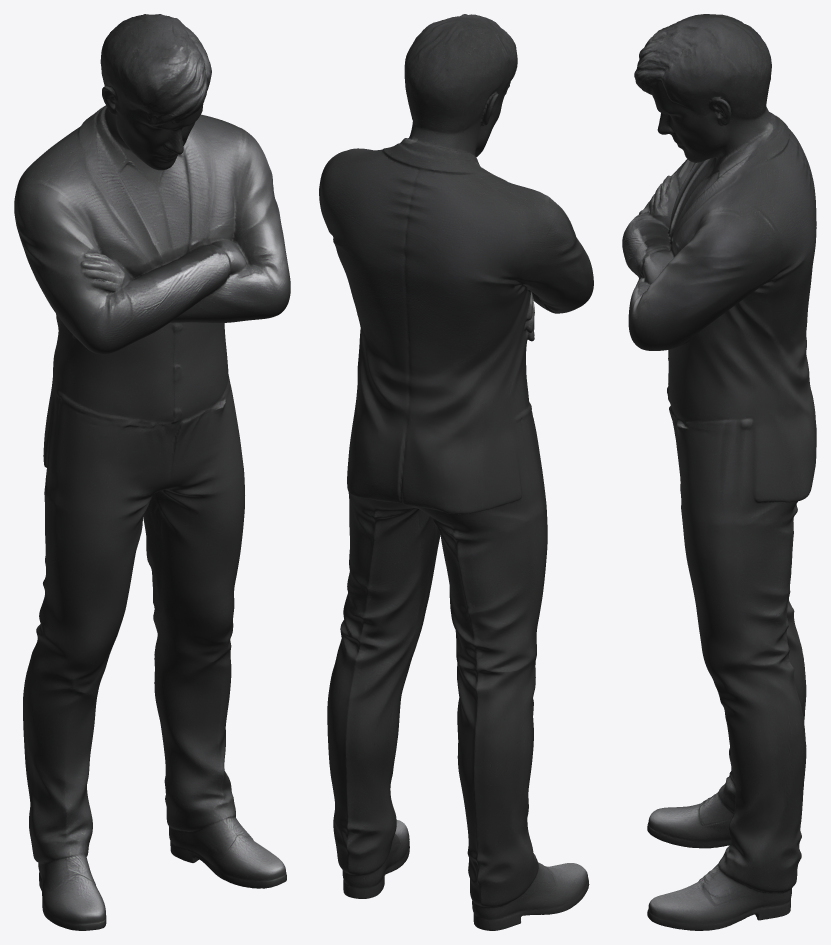
The model's file is Male.glb.
3 renders of one model, left to right at view 1: azimuth 30°, elevation 25°; view 2: azimuth 150°, elevation 25°; view 3: azimuth 270°, elevation 25°, orthographic.
Bounding box in the file's own units: 0.5538 × 1.9 × 0.3894.
1 material, 1 textured.
